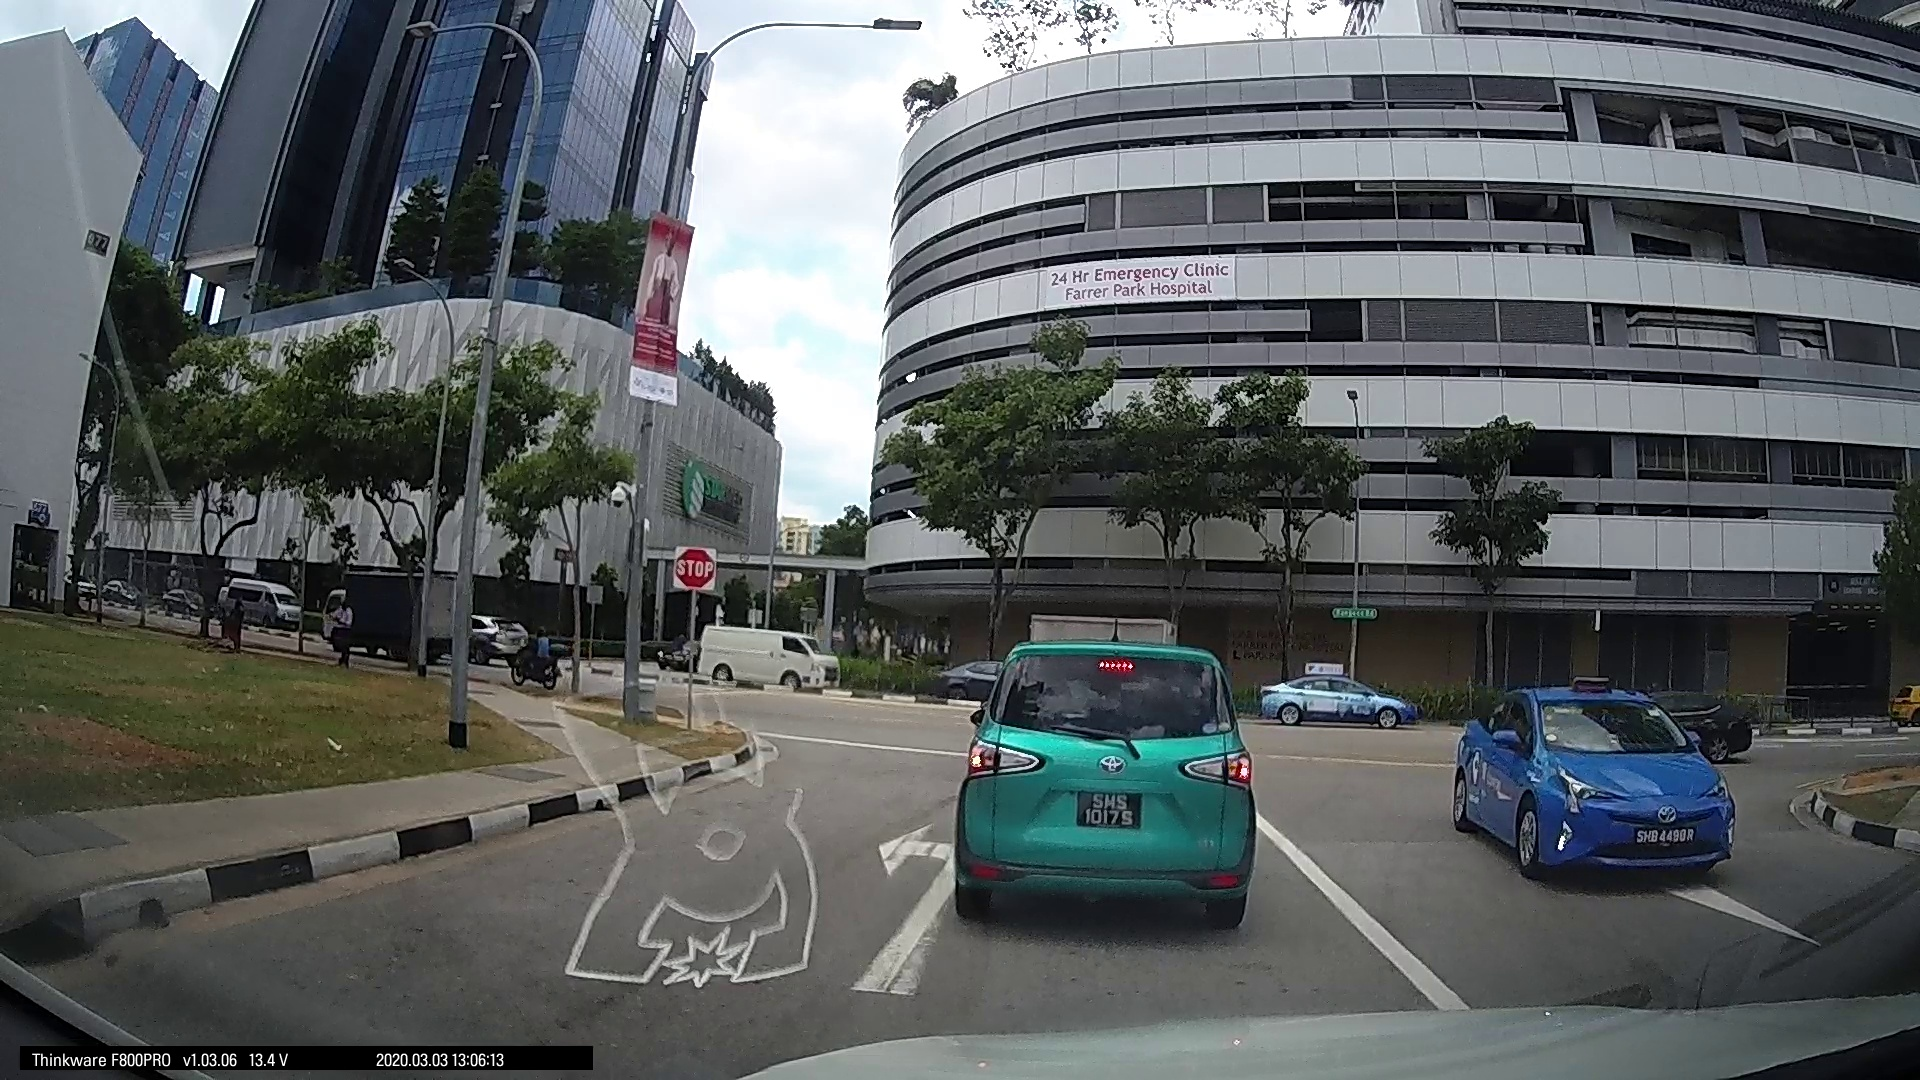Light Vehicle: (944, 622, 1258, 931), (1443, 676, 1737, 887), (675, 618, 837, 691), (1254, 666, 1406, 727)
